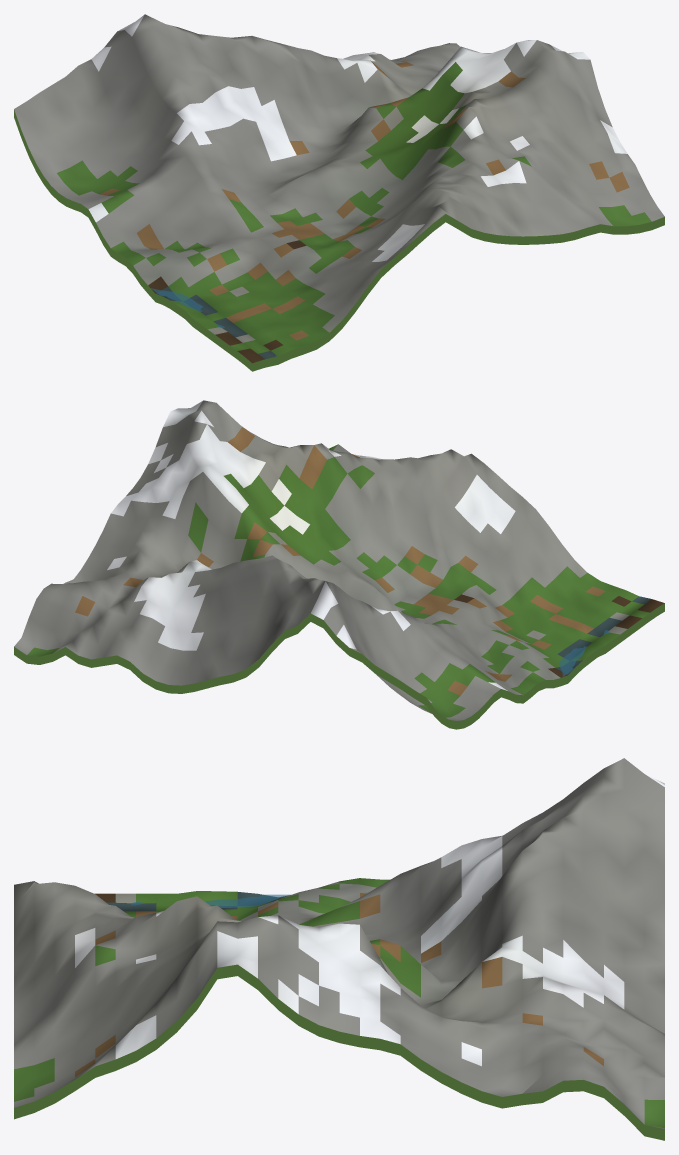
File: chunk_4_2_lod1.glb
The picture shows the model from 3 angles, top to bottom: view 1: azimuth 30°, elevation 25°; view 2: azimuth 150°, elevation 25°; view 3: azimuth 270°, elevation 25°; orthographic projection. The views are drawn at different scales.
Visible parts, largest first — view 1: Surface_Gravel, Surface_Grass, Surface_Snow, Skirt, Surface_Dirt, Surface_Water, Surface_Mud; view 2: Surface_Gravel, Surface_Grass, Surface_Snow, Skirt, Surface_Dirt, Surface_Water, Surface_Mud; view 3: Surface_Gravel, Surface_Snow, Skirt, Surface_Grass, Surface_Dirt, Surface_Water, Water.
Boxes of the visible parts, bbox=[...] form: Surface_Gravel: bbox=[14, 14, 664, 342]; Surface_Grass: bbox=[57, 62, 651, 356]; Surface_Snow: bbox=[88, 14, 627, 261]; Skirt: bbox=[14, 110, 664, 371]; Surface_Dirt: bbox=[99, 60, 629, 340]; Surface_Water: bbox=[156, 286, 277, 359]; Surface_Mud: bbox=[148, 240, 306, 363]; Surface_Gravel: bbox=[14, 400, 629, 720]; Surface_Grass: bbox=[27, 444, 649, 717]; Surface_Snow: bbox=[107, 400, 515, 690]; Skirt: bbox=[14, 603, 664, 729]; Surface_Dirt: bbox=[75, 427, 605, 695]; Surface_Water: bbox=[555, 596, 651, 674]; Surface_Mud: bbox=[454, 594, 664, 677]; Surface_Gravel: bbox=[14, 758, 664, 1129]; Surface_Snow: bbox=[75, 775, 664, 1066]; Skirt: bbox=[14, 964, 664, 1140]; Surface_Grass: bbox=[14, 878, 664, 1128]; Surface_Dirt: bbox=[75, 893, 603, 1077]; Surface_Water: bbox=[106, 892, 278, 911]; Water: bbox=[131, 894, 290, 907].
Bounding box in the file's own units: 256 × 105 × 256.
